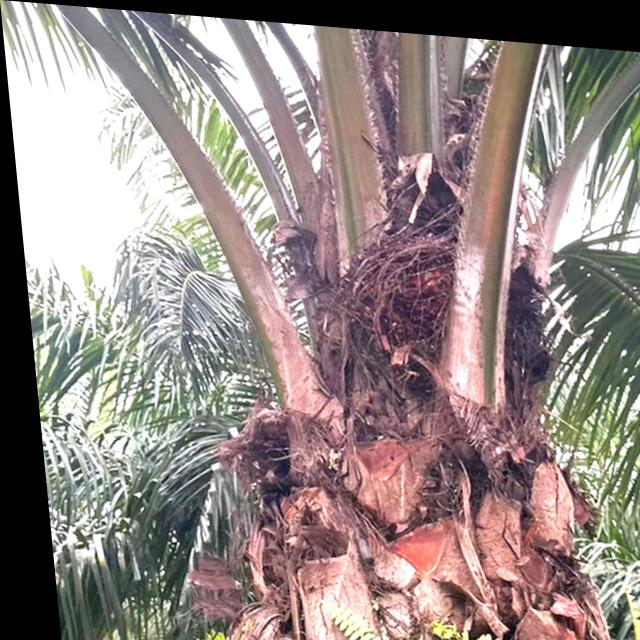ripe: (339, 202, 480, 357)
